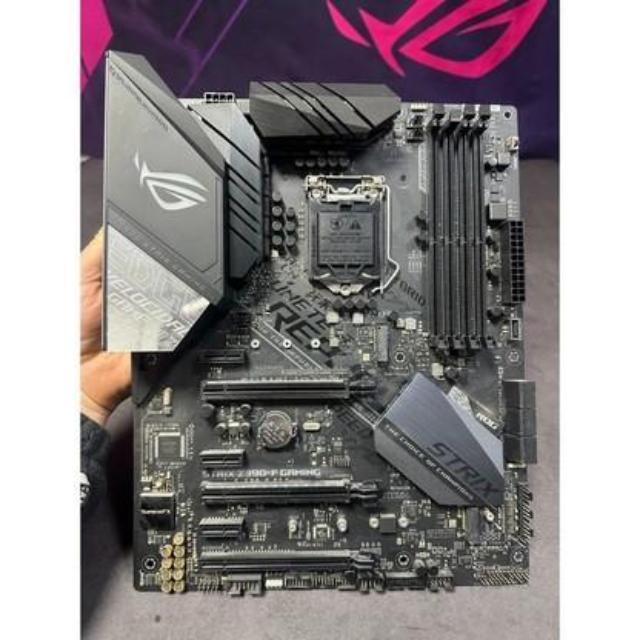Mainboard: (102, 74, 540, 598)
